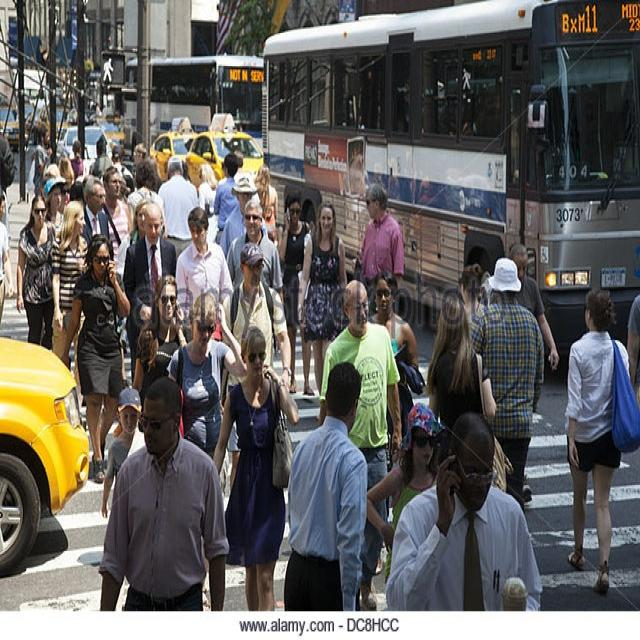body: (91, 374, 232, 638), (384, 410, 543, 613), (317, 277, 403, 613), (211, 324, 301, 612), (560, 283, 639, 598), (20, 132, 272, 224), (280, 358, 369, 612), (468, 256, 547, 520), (271, 58, 505, 140), (60, 231, 133, 485), (222, 244, 294, 494), (365, 397, 457, 590), (506, 241, 561, 507), (165, 291, 250, 459), (425, 287, 497, 463), (366, 270, 421, 459), (122, 201, 179, 382), (296, 200, 344, 403), (130, 273, 189, 433), (275, 184, 317, 393), (46, 198, 89, 399), (174, 204, 234, 331), (14, 192, 58, 352), (100, 383, 148, 521), (226, 200, 285, 306), (357, 181, 406, 297), (156, 154, 200, 264), (219, 174, 268, 261), (99, 164, 134, 271), (126, 158, 166, 235), (115, 196, 151, 280), (211, 151, 242, 245), (609, 96, 640, 185), (249, 162, 280, 250), (0, 187, 16, 326), (78, 174, 111, 241), (196, 161, 221, 244), (41, 172, 69, 243), (457, 261, 487, 323), (0, 121, 18, 218), (31, 126, 53, 198), (628, 286, 640, 394), (69, 138, 84, 182), (56, 154, 76, 185)
